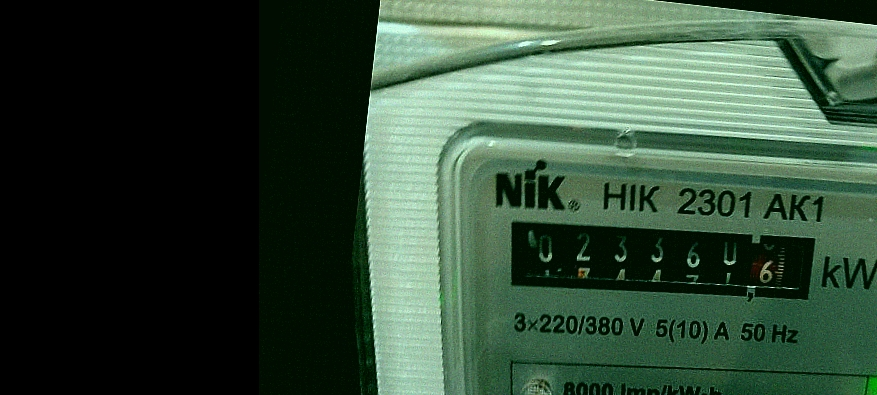0: (533, 229, 559, 265), (717, 235, 742, 268)
2: (573, 228, 596, 263)
3: (647, 229, 670, 264), (609, 231, 631, 264)
6: (755, 252, 780, 287), (682, 235, 706, 270)
screen: (488, 193, 835, 325)
